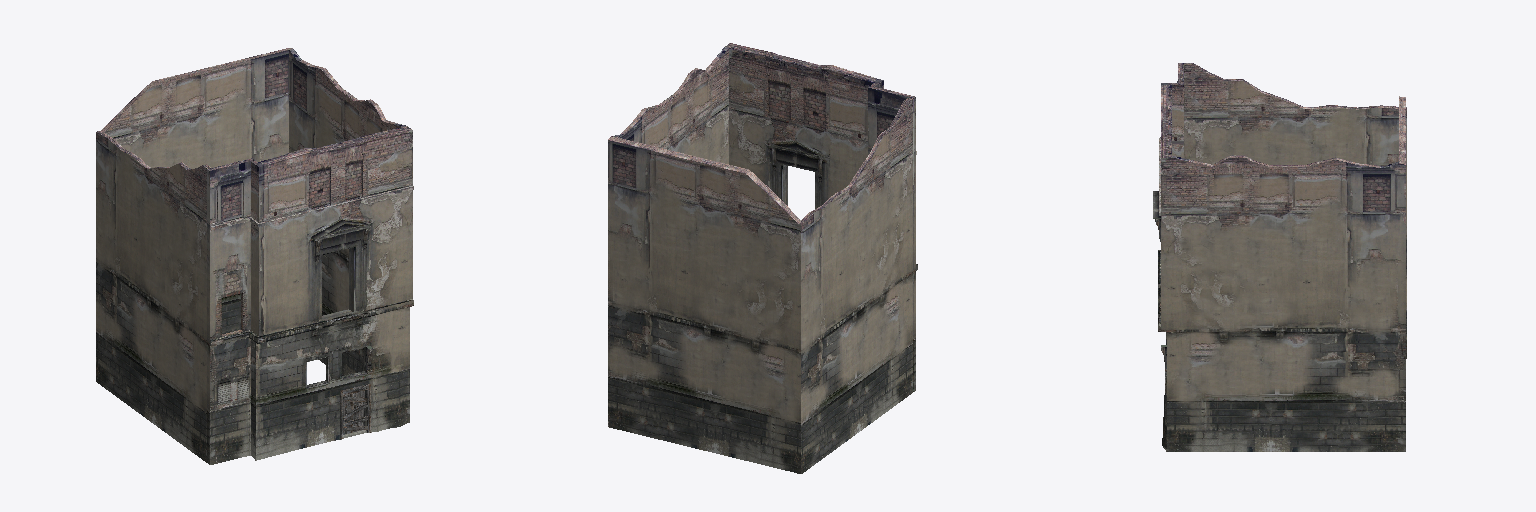
3 views of the same model, side by side, from view 1: azimuth 30°, elevation 25°; view 2: azimuth 150°, elevation 25°; view 3: azimuth 270°, elevation 25° (orthographic).
Visible parts, largest first — view 1: worn_torn1; view 2: worn_torn1; view 3: worn_torn1.
Part boxes in pixels (x1,y1,x2,y2): worn_torn1: (96,48,413,464); worn_torn1: (608,43,917,473); worn_torn1: (1153,63,1406,451).
Size of the model in its own units: 327 by 477 by 369.
Materials: 1 (1 with a texture image).